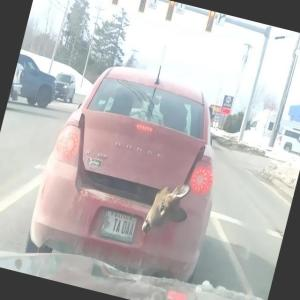Plate: (99, 209, 137, 243)
